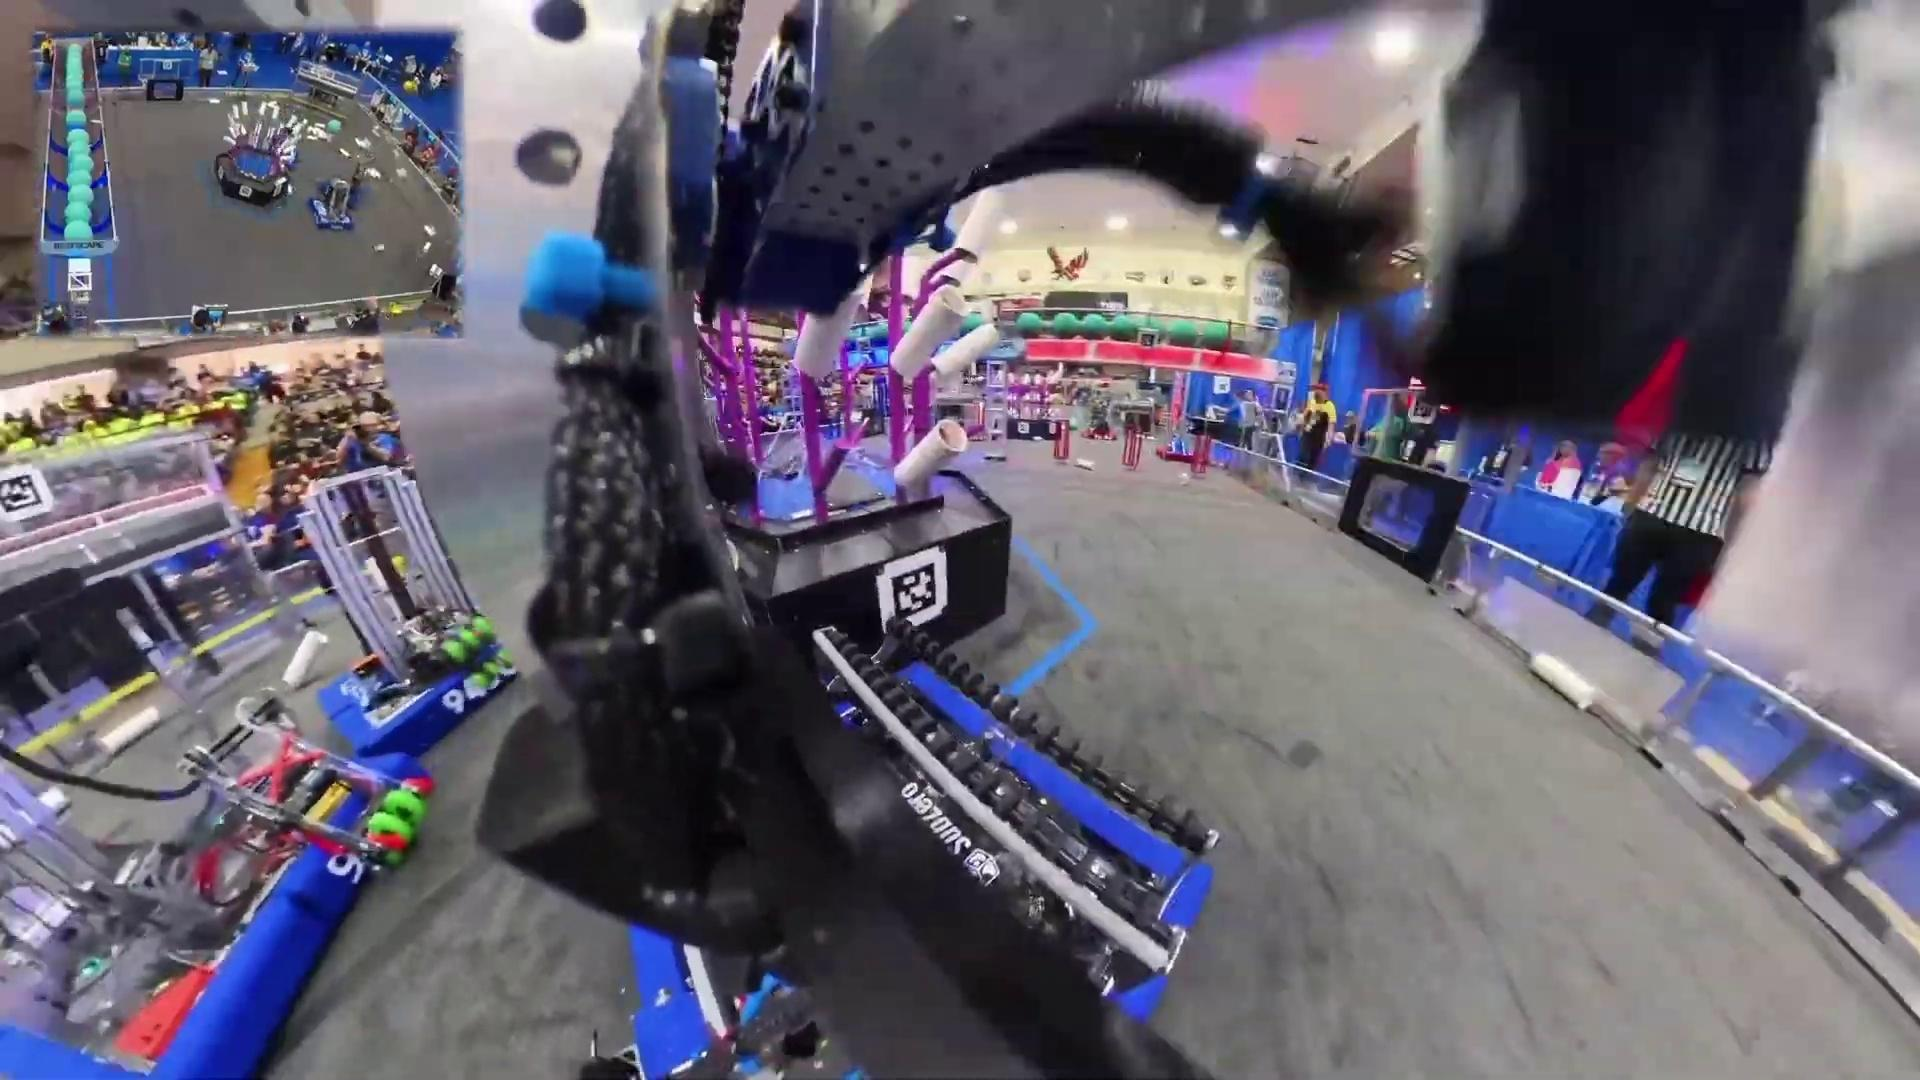robot: (0, 657, 425, 1080), (307, 444, 517, 775), (306, 174, 359, 233), (1081, 401, 1121, 446), (1153, 429, 1193, 468)
